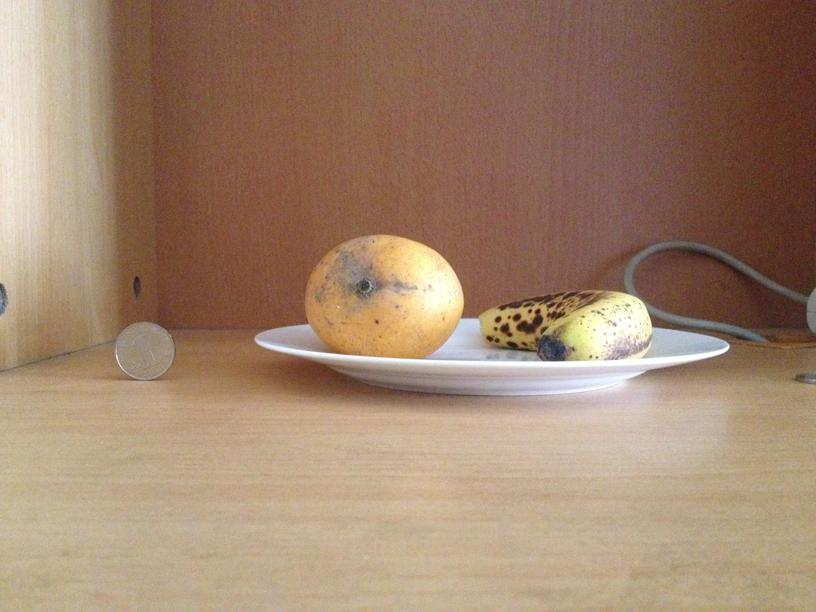banana: (479, 288, 654, 360)
coin: (114, 318, 173, 378)
mango: (305, 237, 463, 356)
